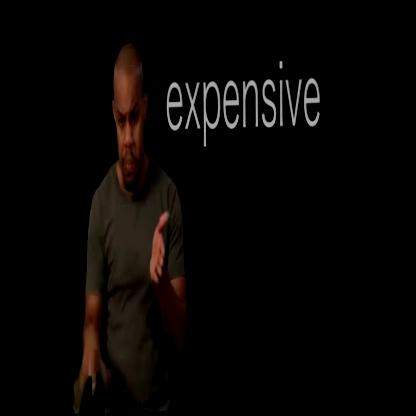Expensive: (72, 208, 177, 399)
